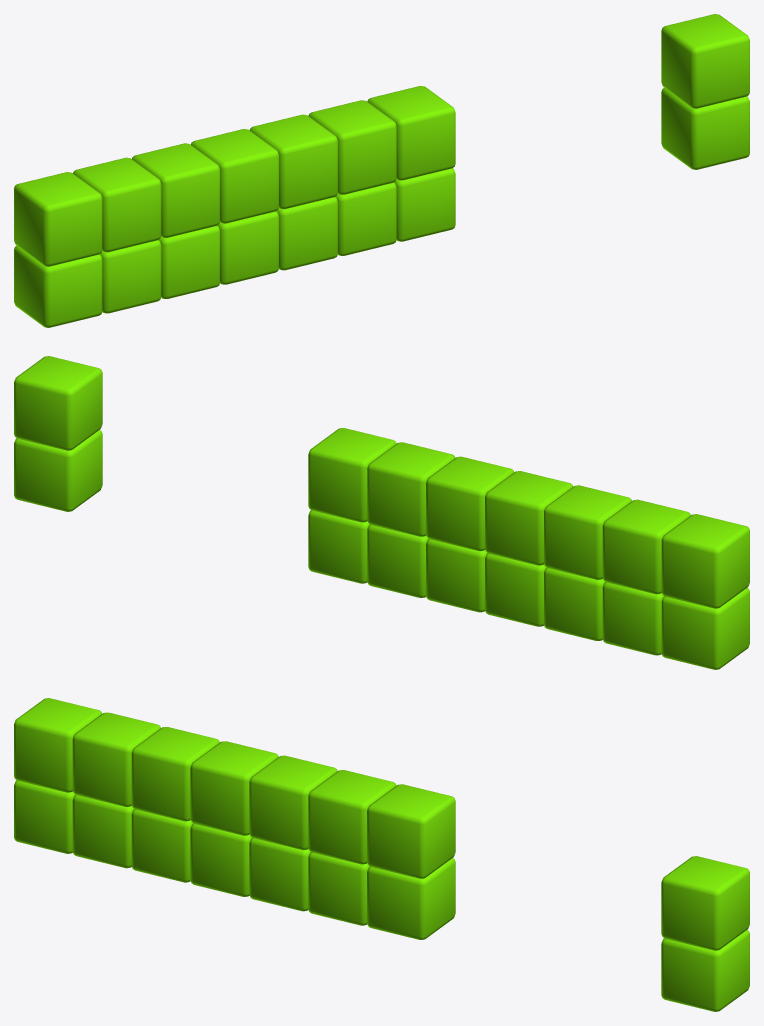
The model's file is emptywall2.glb.
The picture shows the model from 3 angles, top to bottom: view 1: azimuth 30°, elevation 25°; view 2: azimuth 150°, elevation 25°; view 3: azimuth 330°, elevation 25°; orthographic projection.
Parts seen in each view (by area): view 1: Object_11; view 2: Object_11; view 3: Object_11.
Part boxes in pixels (x1,y1,x2,y2): Object_11: [14, 14, 749, 327]; Object_11: [14, 356, 749, 669]; Object_11: [14, 698, 749, 1011].
Bounding box in the file's own units: 50.43 × 8.38 × 4.2.
